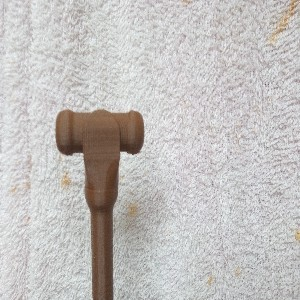palu: (55, 108, 145, 300)
